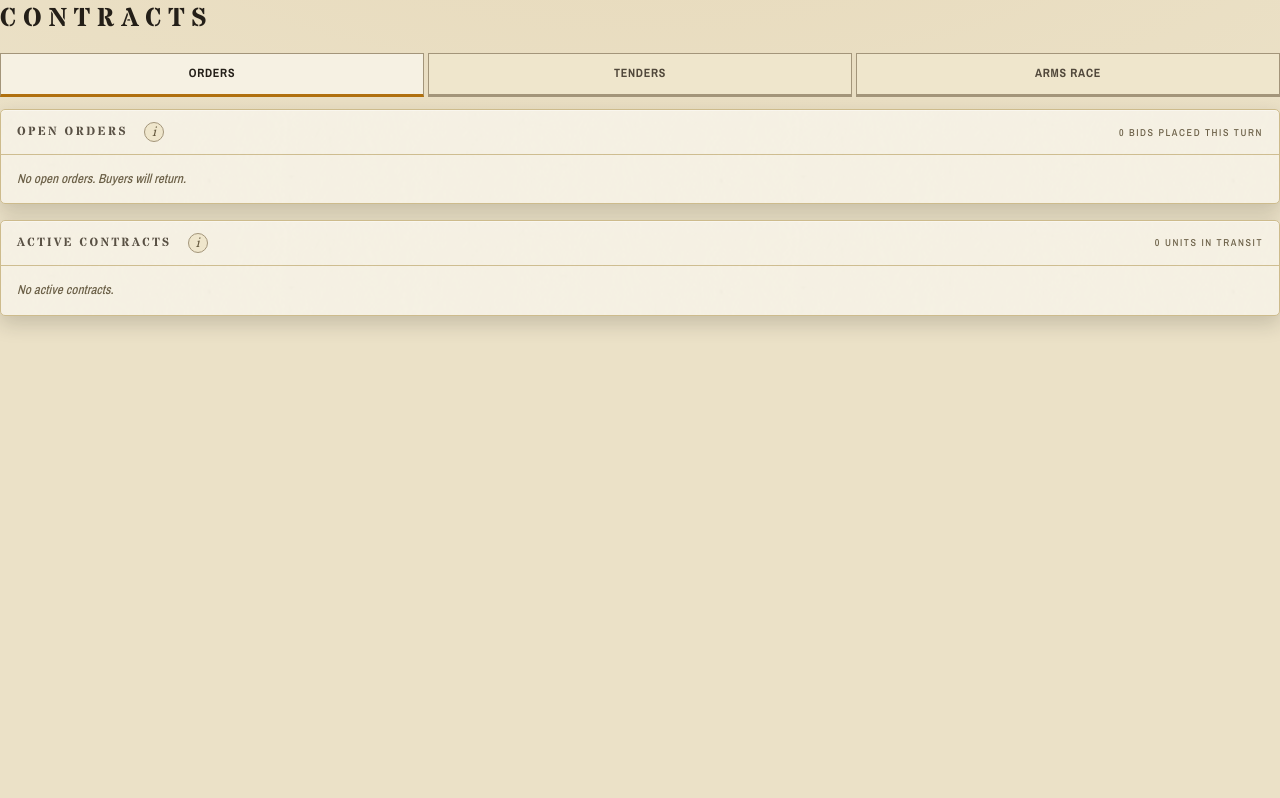
Test: P199 — CONTRACTS i tre flikar › Orders visas först; Tenders och Arms race bara när deras flik är vald
Click the tab with test id "contracts-tabs-race" at (1068, 75), box [856, 53, 1279, 97]
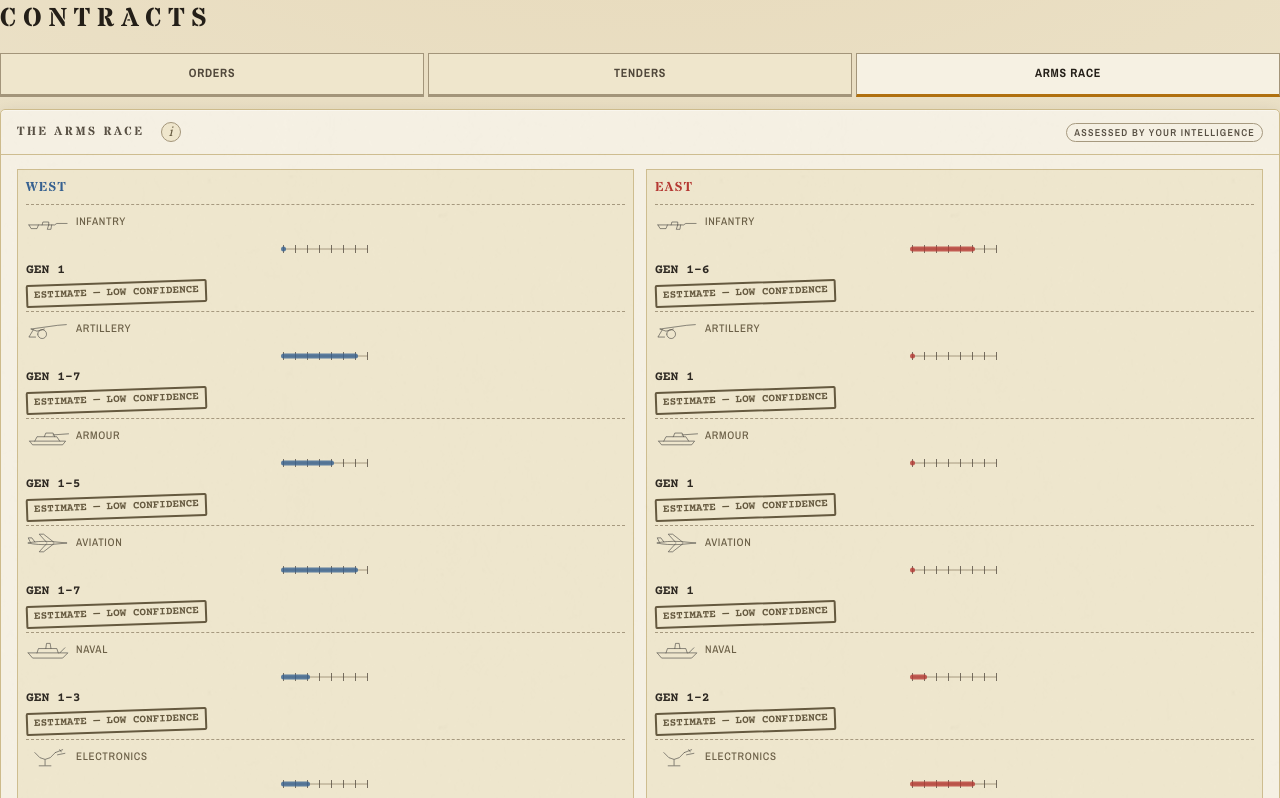
Click the tab with test id "contracts-tabs-tenders" at (640, 75), box [428, 53, 852, 97]
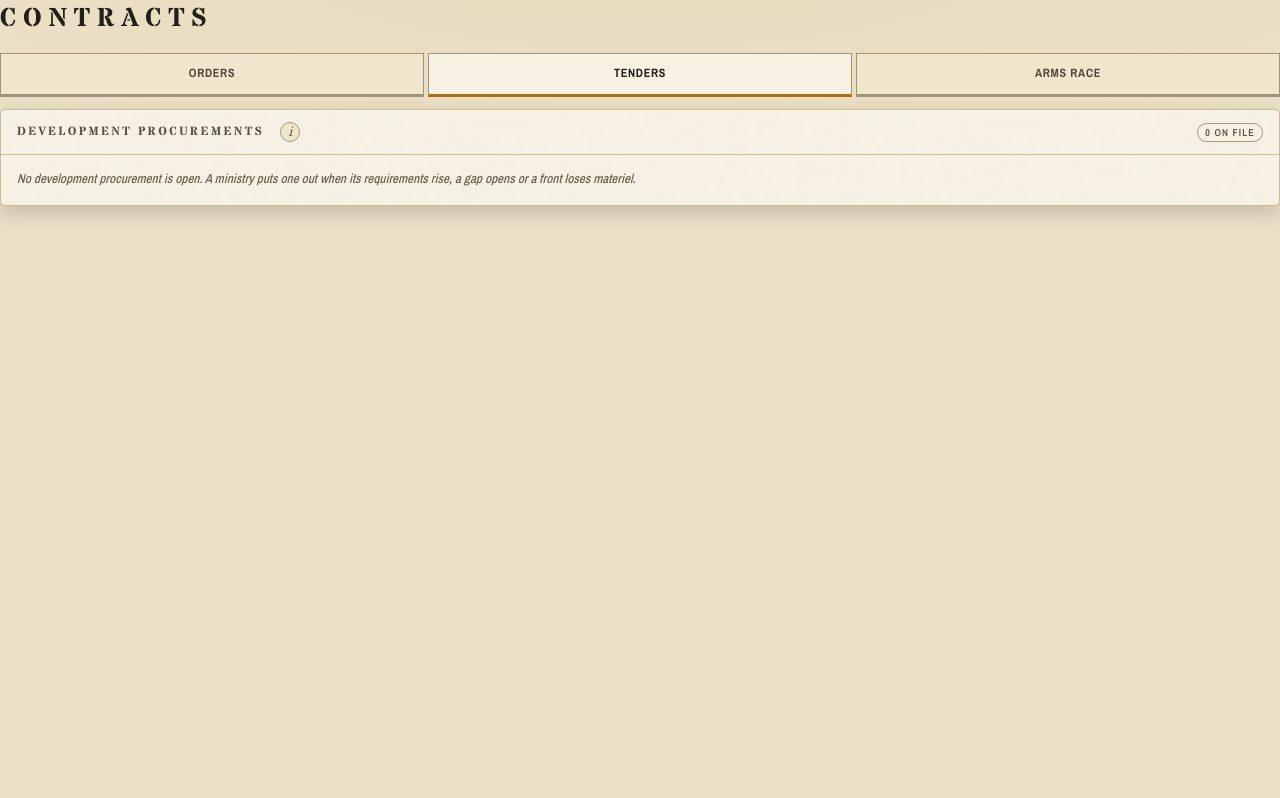
Check: the text with test id "programmes-empty" is shown, box [17, 170, 635, 187]
